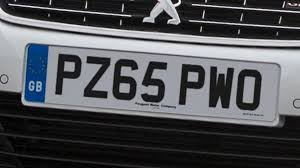number_plate: (26, 42, 282, 130)
